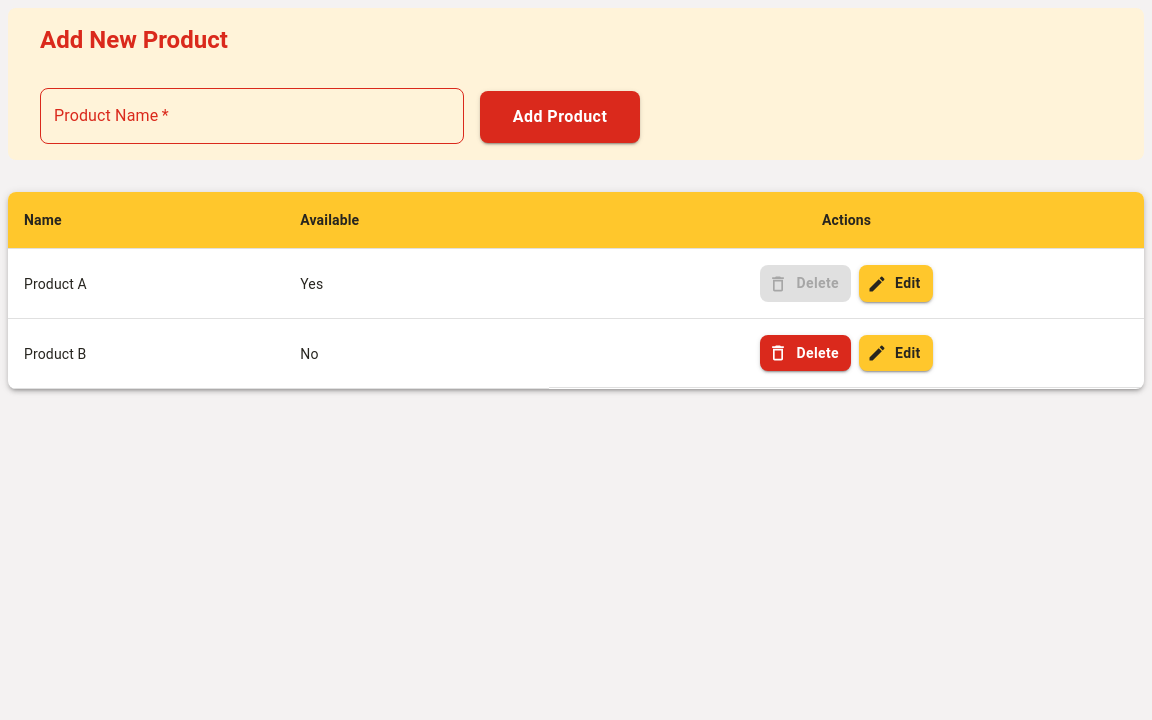
Test: ManageProductsPage › deletes product after confirmation
Click the button "Delete" in the row of "Product B" at [806, 353], box [760, 335, 851, 371]
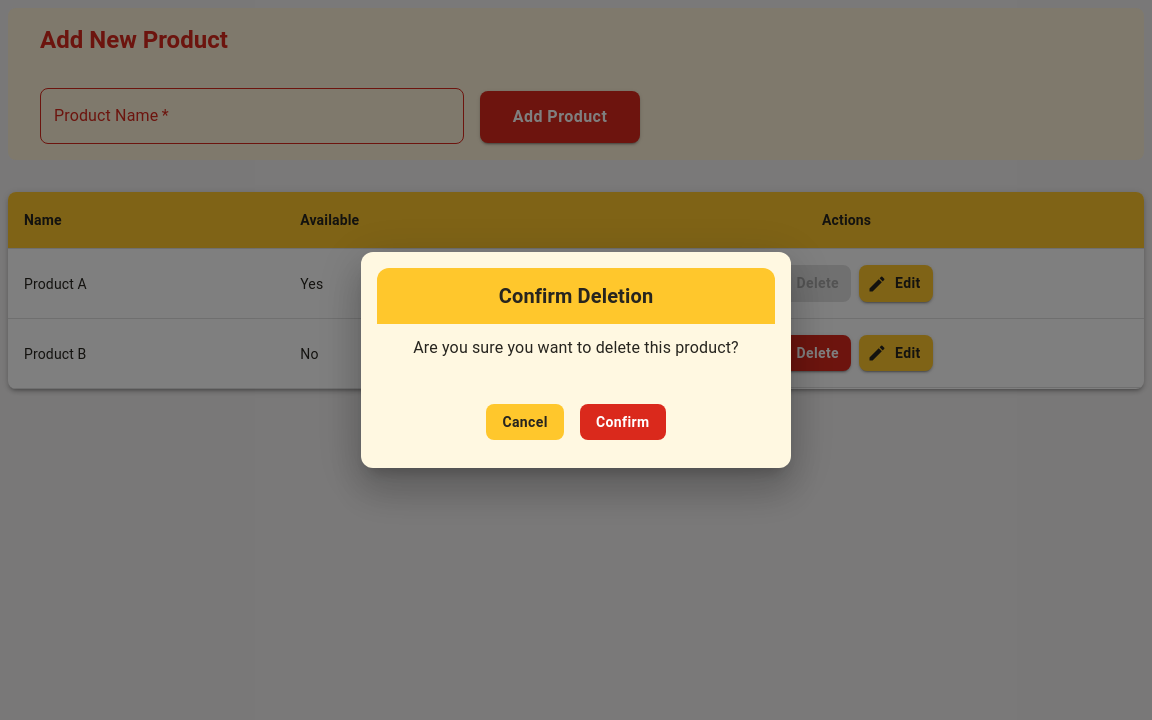
Click the button "Confirm" at [623, 422], box [580, 404, 666, 440]
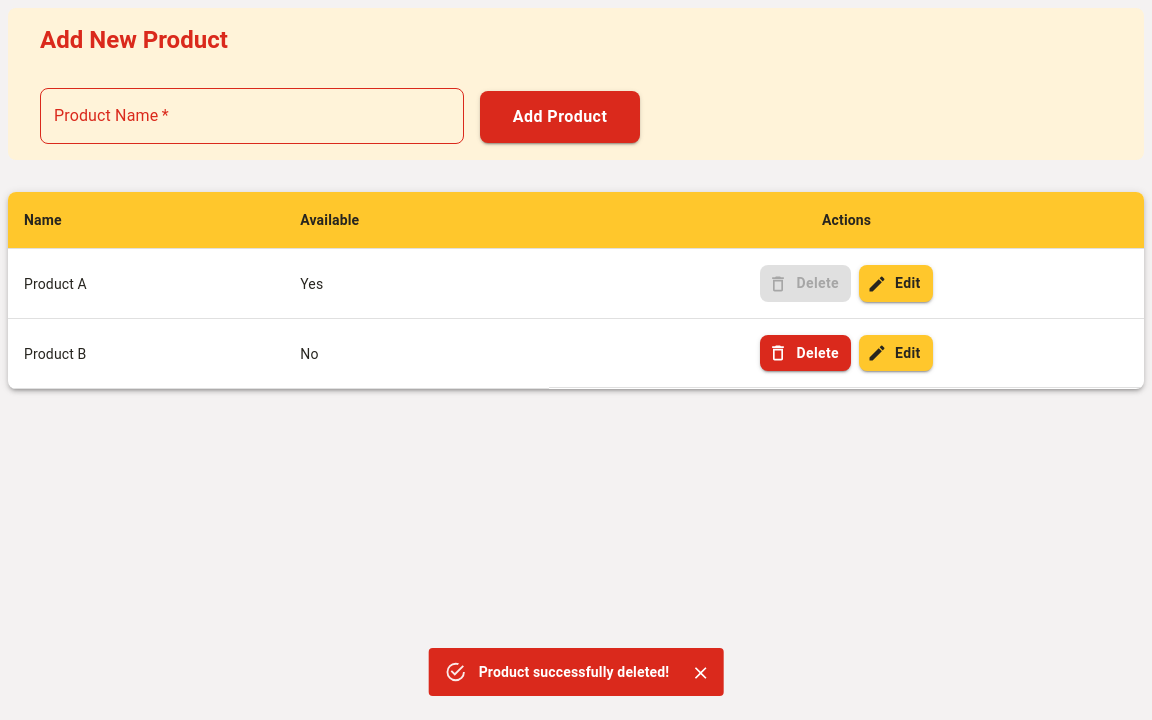
Result: the text "Product successfully deleted!" is shown at [479, 664, 669, 680]
